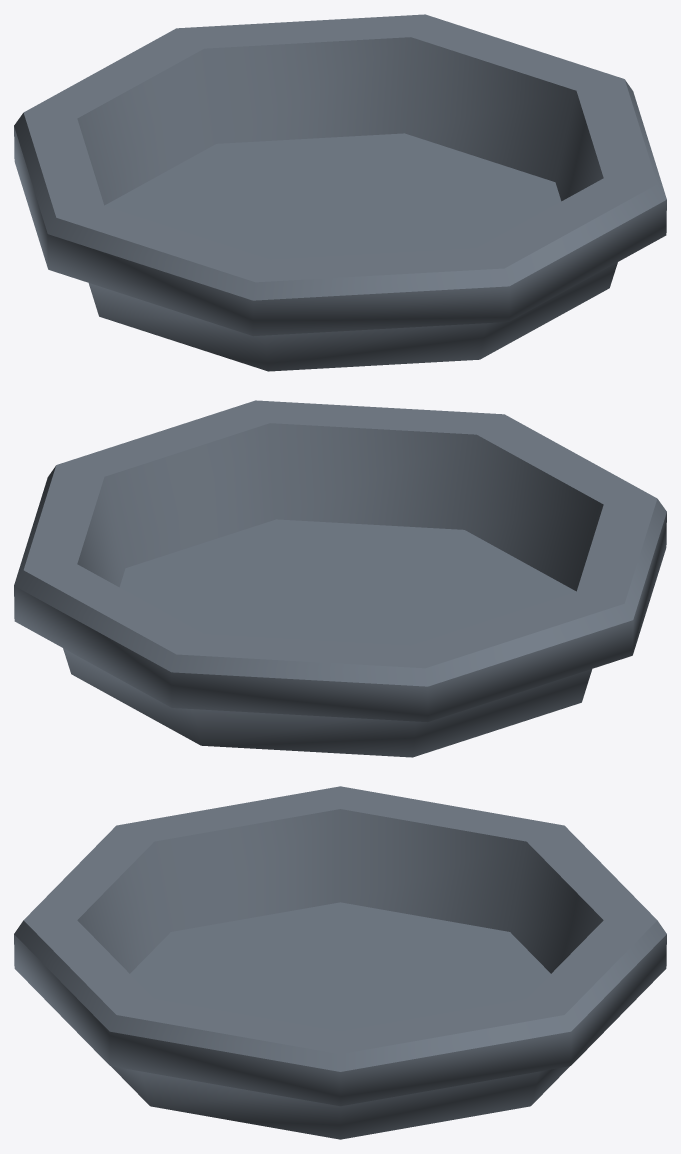
The model's file is Plate_2_C.glb.
3 views of the same model, one above another, from view 1: azimuth 30°, elevation 25°; view 2: azimuth 150°, elevation 25°; view 3: azimuth 270°, elevation 25° (orthographic). The views are drawn at different scales.
Visible parts, largest first — view 1: Plate_2_C; view 2: Plate_2_C; view 3: Plate_2_C.
Boxes of the visible parts, x1,y1,x2,y2 form: Plate_2_C: [14, 14, 666, 371]; Plate_2_C: [14, 400, 666, 757]; Plate_2_C: [14, 786, 666, 1139].
Size of the model in its own units: 0.1941 by 0.0347 by 0.1941.
1 material, 1 textured.
